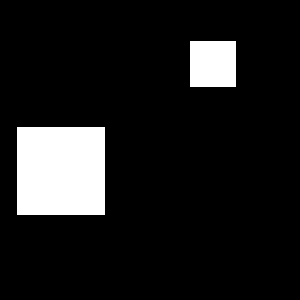circle: (17, 127, 105, 215), (190, 41, 236, 87)
triangle: (196, 78, 203, 85)
